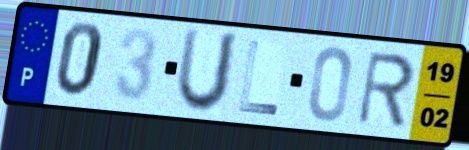0: (51, 20, 105, 100), (306, 44, 354, 124)
3: (113, 26, 162, 104)
L: (236, 37, 281, 118)
R: (355, 50, 418, 130)
U: (172, 25, 242, 116)
